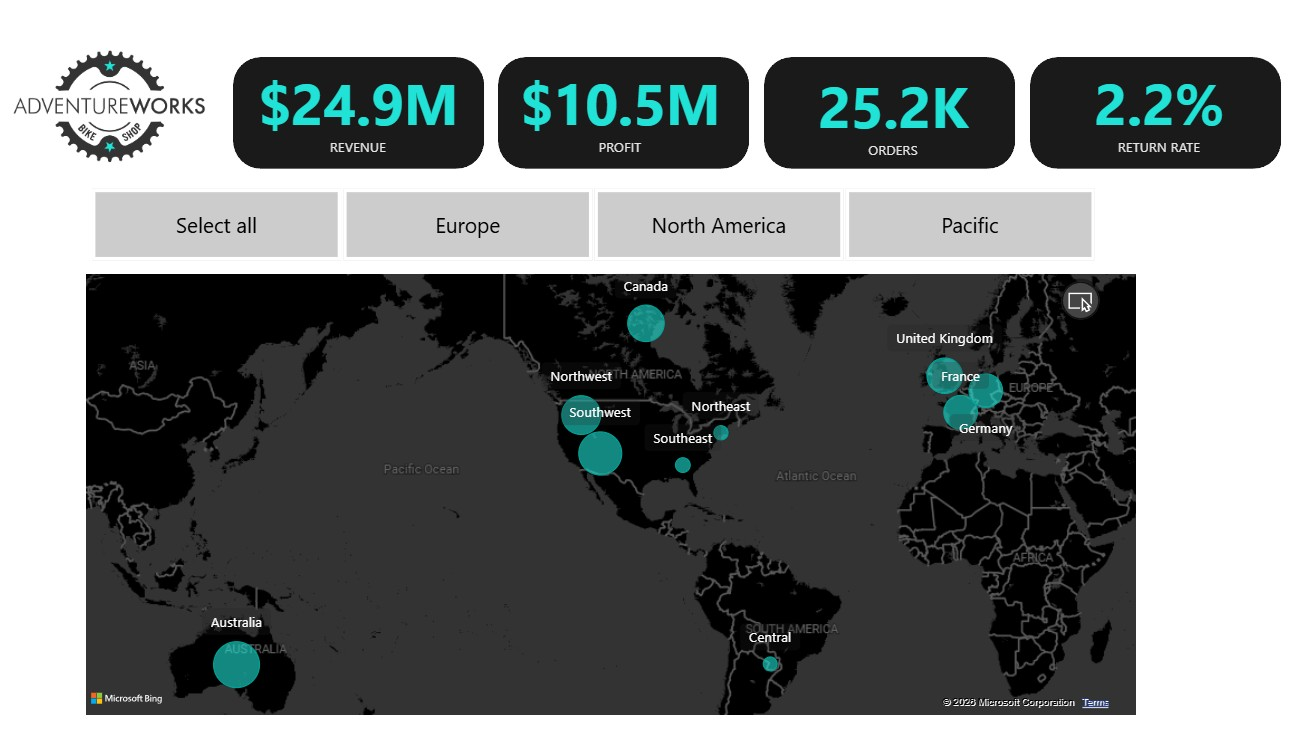

This screenshot's page, from the dashboard's own definition file:
{"tool":"powerbi","page":{"name":"Map","canvas":[1280,720],"ordinal":1},"visuals":[{"type":"shape","box":[0,0,45.2,720.2],"z":0},{"type":"card","fields":{"Values":["Measure Table.Return Rate"]},"box":[971,64.8,231.1,99],"z":0,"group":"g3"},{"type":"shape","box":[256.8,66.3,225,100.3],"z":0,"group":"g2"},{"type":"image","title":"AW Logo","box":[36.7,0,220.1,220.1],"z":1000},{"type":"shape","box":[494,66.3,225,100.3],"z":1000,"group":"g2"},{"type":"card","fields":{"Values":["Measure Table.Total Orders"]},"box":[732.5,67.2,231.1,99],"z":1000,"group":"g3"},{"type":"group","id":"g1","title":"KPIs","box":[253.4,64.8,948.7,101.7],"z":2000},{"type":"card","fields":{"Values":["Measure Table.Total Profit"]},"box":[487.9,64.8,231.1,99],"z":2000,"group":"g3"},{"type":"shape","box":[732.5,66.3,225,100.3],"z":2000,"group":"g2"},{"type":"card","fields":{"Values":["Measure Table.Total Revenue"]},"box":[253.4,64.8,231.1,99],"z":3000,"group":"g3"},{"type":"shape","box":[970.9,66.3,225,100.3],"z":3000,"group":"g2"},{"type":"map","fields":{"Category":["Territory Lookup.Region"],"Size":["Measure Table.Total Orders"]},"box":[119.8,255.6,951.4,404.8],"z":3000},{"type":"group","id":"g2","title":"KPI Background","box":[256.8,66.3,939.1,100.3],"z":3001,"group":"g1"},{"type":"group","id":"g3","title":"KPI Visual","box":[253.4,64.8,948.7,101.5],"z":4000,"group":"g1"},{"type":"slicer","fields":{"Values":["Territory Lookup.Continent"]},"box":[105.2,177.3,947.7,78.3],"z":4000}]}

Visuals, with their boxes in screenshot pixels (x1, y1, x2, y2), scaled from the page's 1280x720 canvas onto the 1311x750 screenshot:
shape: {"x1": 0, "y1": 0, "x2": 46, "y2": 749}
card - Measure Table.Return Rate: {"x1": 995, "y1": 68, "x2": 1231, "y2": 171}
shape: {"x1": 263, "y1": 69, "x2": 493, "y2": 174}
"AW Logo" image: {"x1": 38, "y1": 0, "x2": 263, "y2": 229}
shape: {"x1": 506, "y1": 69, "x2": 736, "y2": 174}
card - Measure Table.Total Orders: {"x1": 750, "y1": 70, "x2": 987, "y2": 173}
"KPIs" group: {"x1": 260, "y1": 68, "x2": 1231, "y2": 173}
card - Measure Table.Total Profit: {"x1": 500, "y1": 68, "x2": 736, "y2": 171}
shape: {"x1": 750, "y1": 69, "x2": 981, "y2": 174}
card - Measure Table.Total Revenue: {"x1": 260, "y1": 68, "x2": 496, "y2": 171}
shape: {"x1": 994, "y1": 69, "x2": 1225, "y2": 174}
map - Territory Lookup.Region x Measure Table.Total Orders: {"x1": 123, "y1": 266, "x2": 1097, "y2": 688}
"KPI Background" group: {"x1": 263, "y1": 69, "x2": 1225, "y2": 174}
"KPI Visual" group: {"x1": 260, "y1": 68, "x2": 1231, "y2": 173}
slicer - Territory Lookup.Continent: {"x1": 108, "y1": 185, "x2": 1078, "y2": 266}
